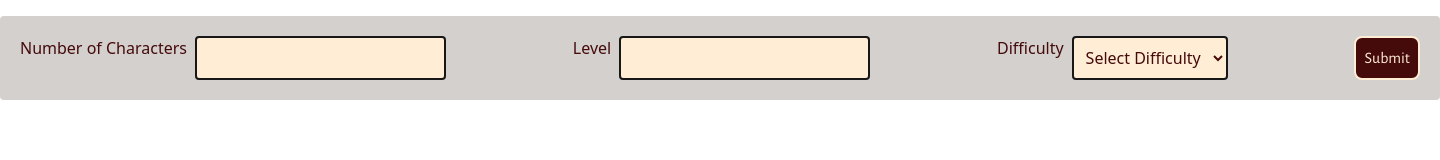
Test: EncounterForm submission › Form cannot be submitted with invalid difficulty
Type "5" into the number field labelled "Number of Characters".
click(320, 58); type("5")  # box left=195, top=36, right=446, bottom=80
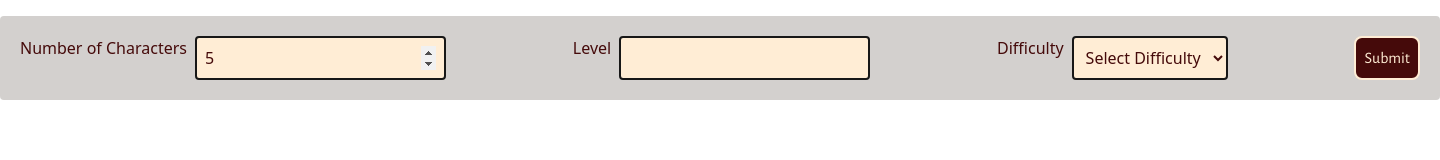
Type "10" into the number field labelled "Level".
click(745, 58); type("10")  # box left=619, top=36, right=870, bottom=80
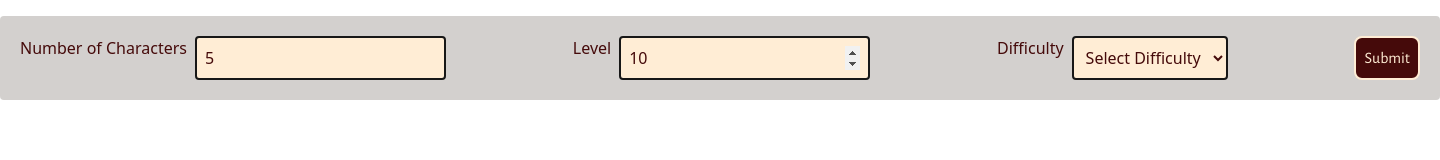
Select "Select Difficulty" in the dropdown at x=1150, y=58, box left=1072, top=36, right=1228, bottom=80
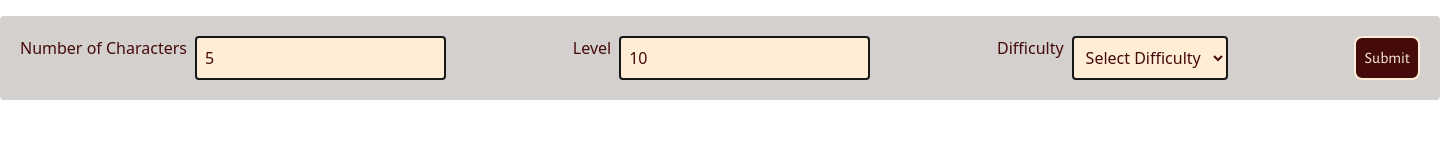
Click the button "Submit".
click(1387, 58)  # box left=1354, top=36, right=1420, bottom=80
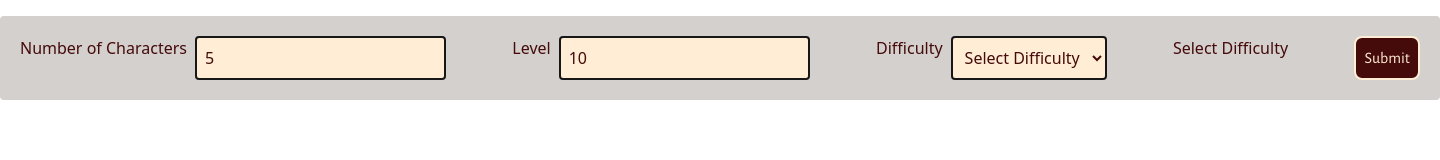
Now the text "Select Difficulty" is shown, box left=1173, top=37, right=1288, bottom=59
